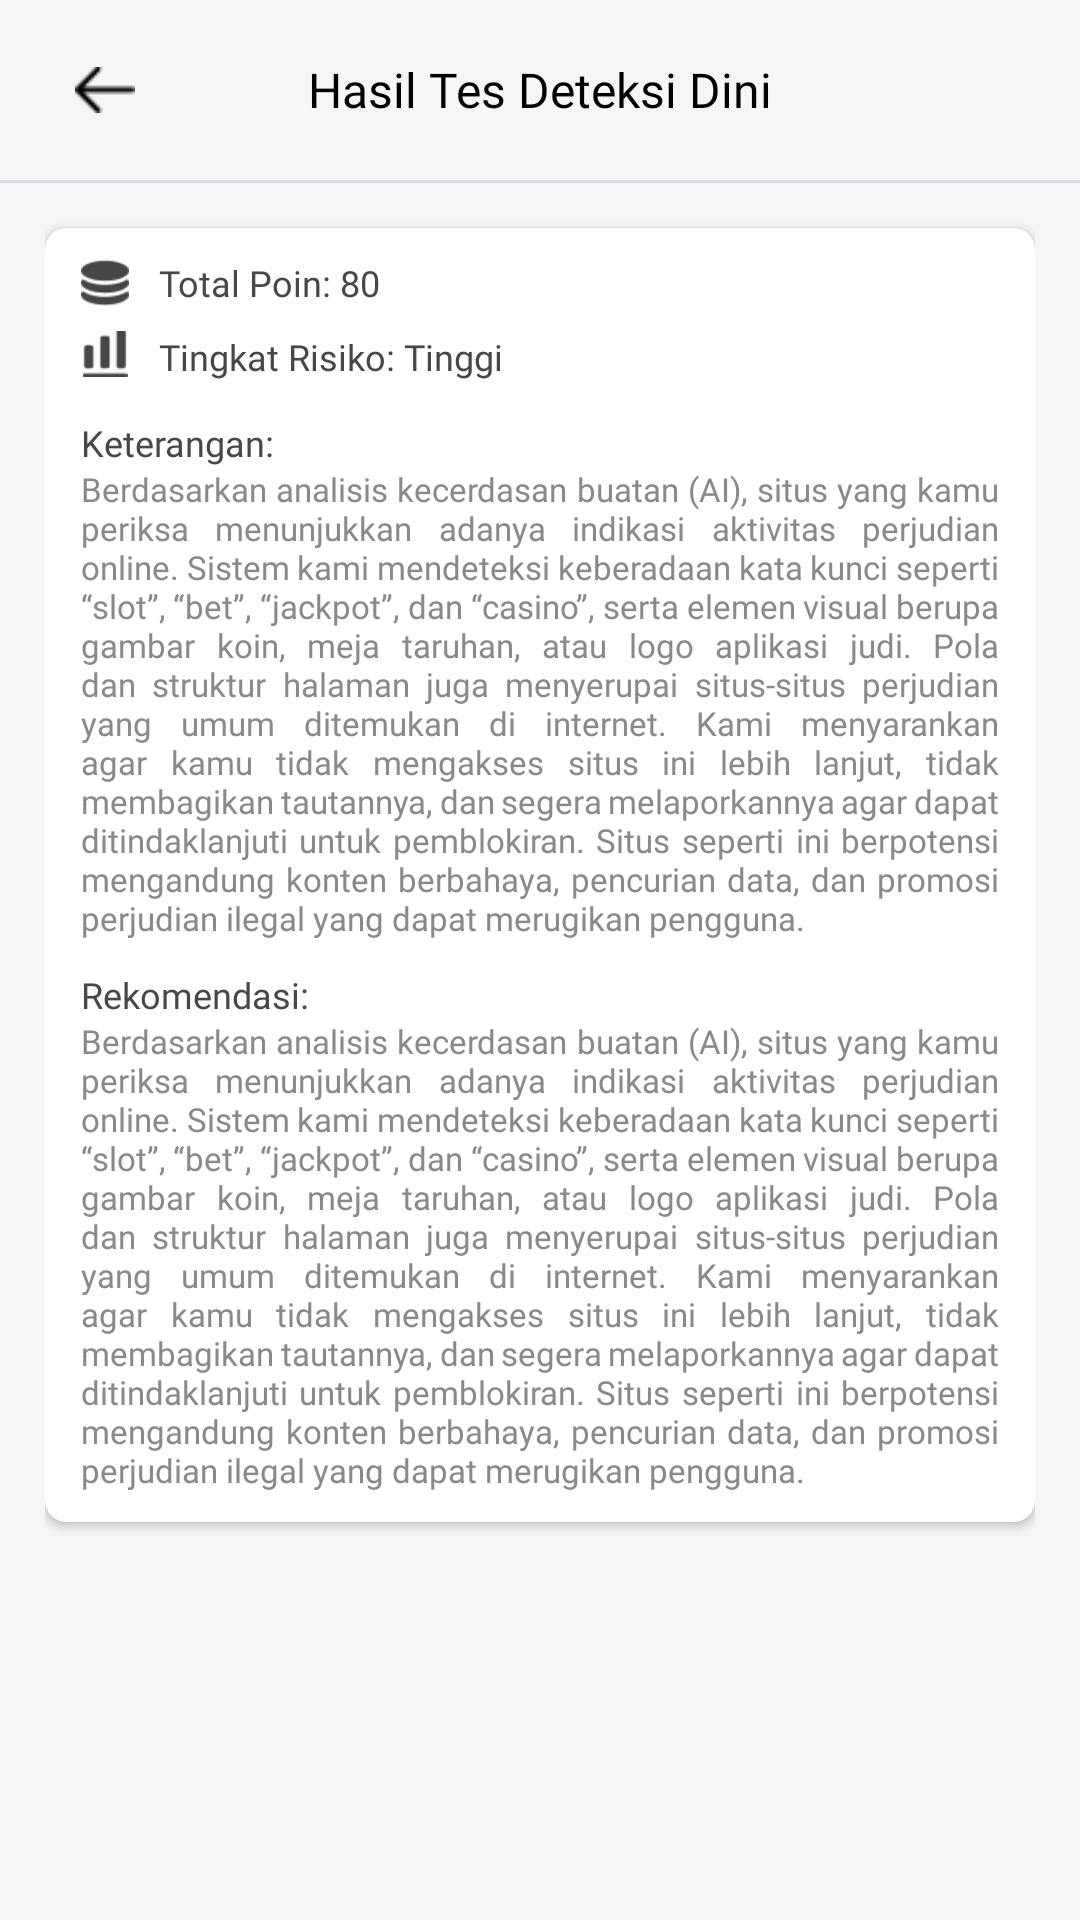

Icons on this 1080×1920 Android screen, each with the point to tap as (x=x, y=y):
arrow left: (x=105, y=90)
coin: (x=105, y=283)
